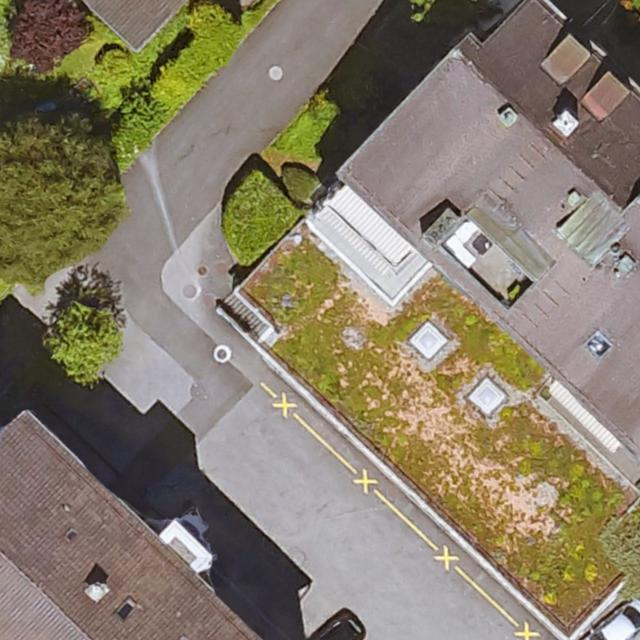tree: (0, 115, 116, 284), (44, 303, 121, 382), (7, 0, 87, 70)
